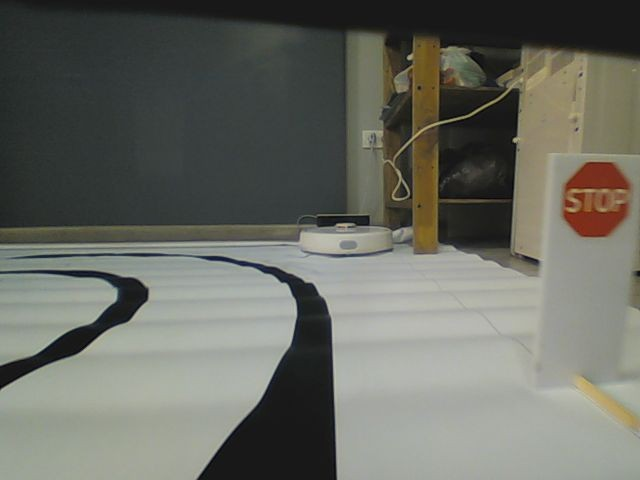Stop: (557, 160, 635, 240)
